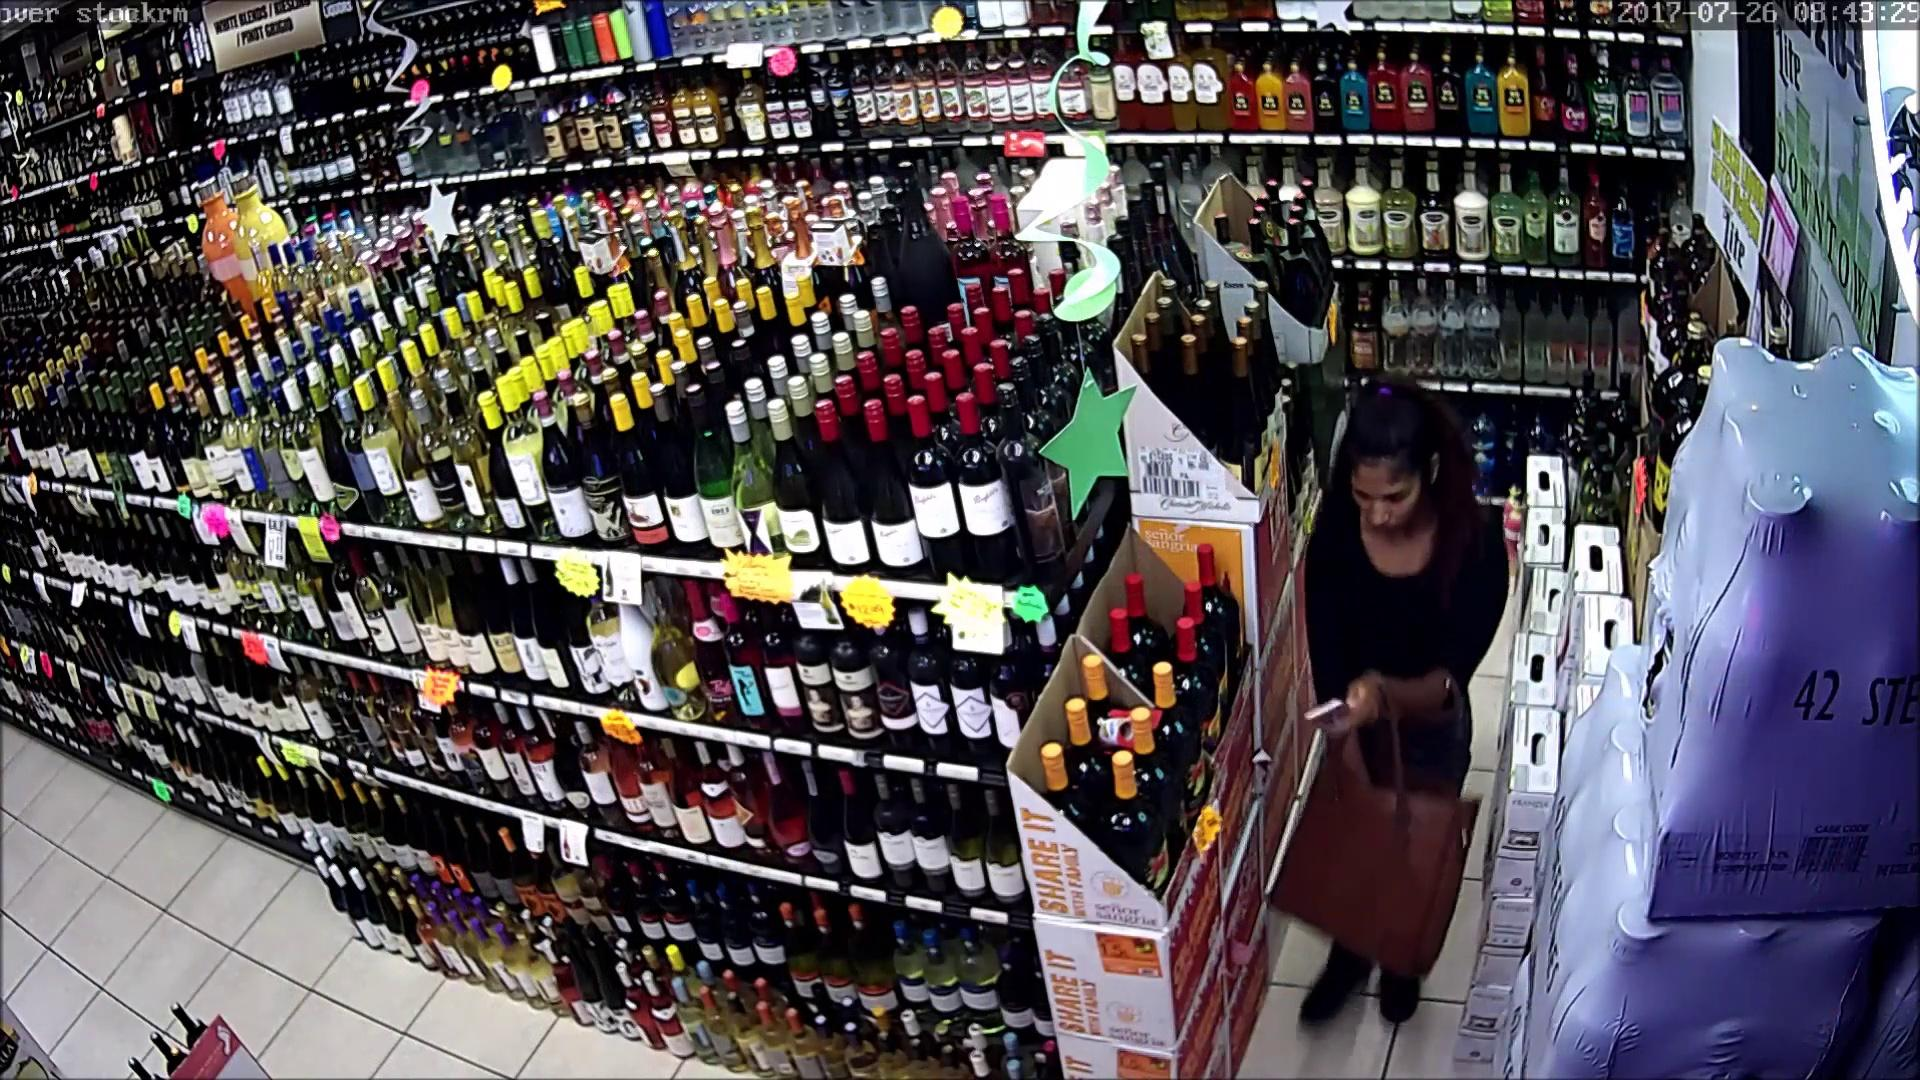3: (1208, 328, 1572, 1029)
persone: (1265, 770, 1477, 961)
